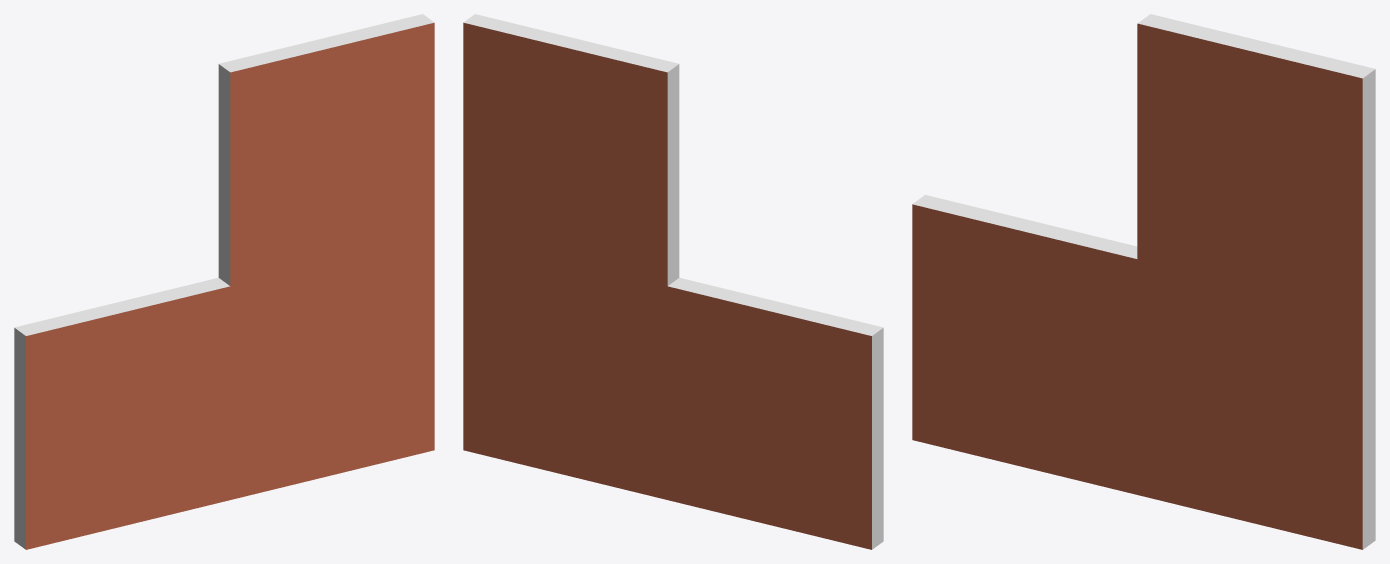
File: Walls_083.glb
The picture shows the model from 3 angles, left to right: view 1: azimuth 30°, elevation 25°; view 2: azimuth 150°, elevation 25°; view 3: azimuth 330°, elevation 25°; orthographic projection. The views are drawn at different scales.
Parts seen in each view (by area): view 1: Walls_083; view 2: Walls_083; view 3: Walls_083.
Boxes of the visible parts, x1,y1,x2,y2 form: Walls_083: (14, 14, 434, 549); Walls_083: (463, 14, 883, 549); Walls_083: (912, 14, 1375, 549).
Bounding box in the file's own units: 4 × 4 × 0.2.
1 material, 1 textured.
